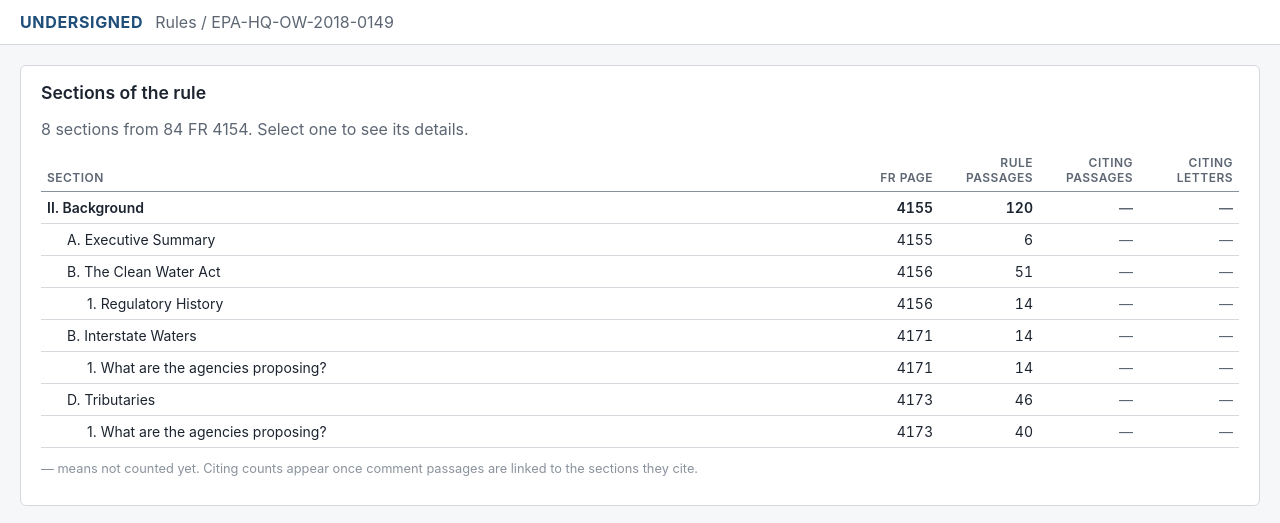
clicking a section shows its heading path, rule citation, counts, and that citations are not counted
The image size is (1280, 523).
expect the table is shown: met, box [41,155,1239,448]
Click the button "1. What are the agencies proposing?" in the row of "40".
click(207, 432)  # box [87,423,327,440]
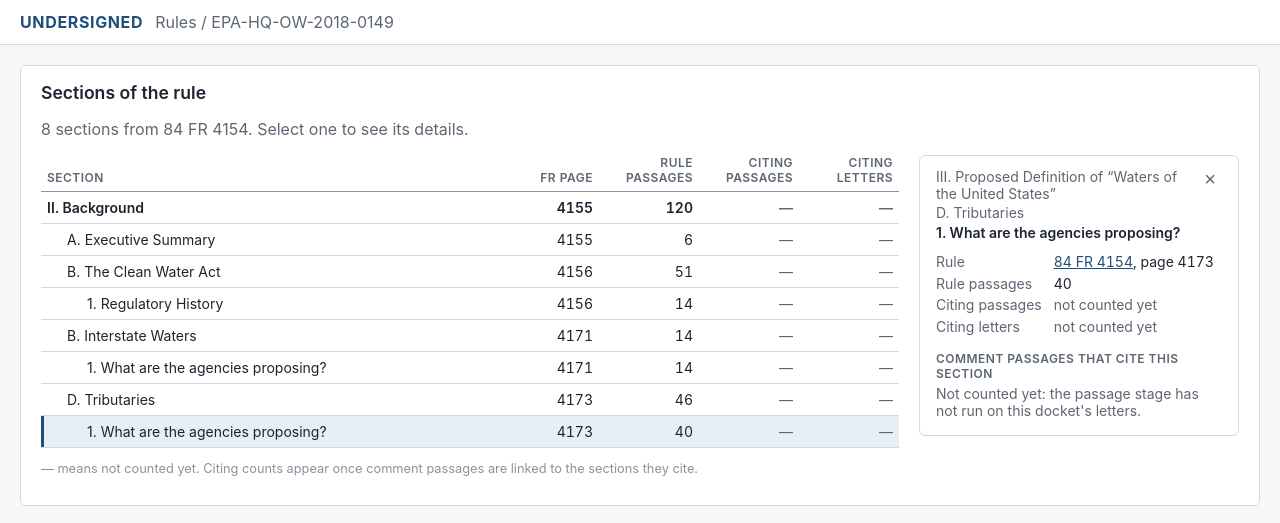
expect the list items read "III. Proposed Definition of “Waters of the United States”", "D. Tributaries", "1. What are the agencies proposing?", in this order: met, box [936,168,1177,202]; [936,204,1024,221]; [936,224,1222,241]
expect the element showing "84 FR 4154 , page 4173" is shown: met, box [1054,253,1222,270]
expect the text "40" is shown: met, box [1054,275,1072,292]
